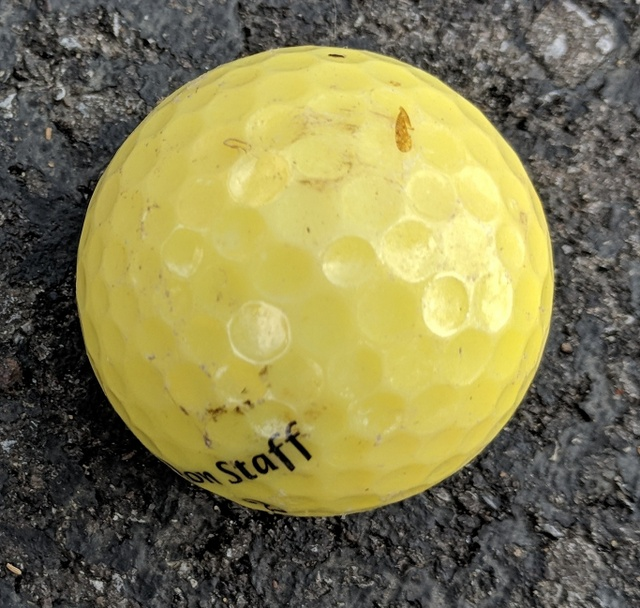ball: (75, 44, 559, 528)
